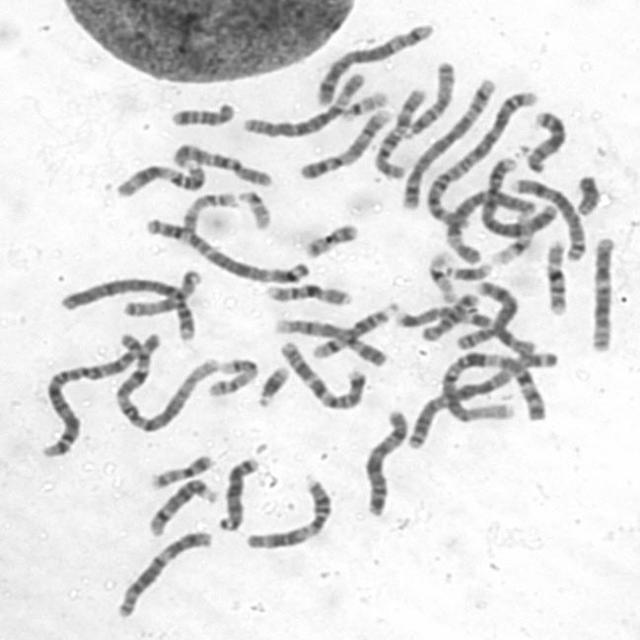A1: (107, 332, 220, 434), (436, 347, 550, 425)
A2: (420, 86, 541, 232), (40, 330, 162, 462)
A3: (405, 349, 560, 449), (141, 214, 311, 284)
B4: (56, 274, 198, 342), (477, 154, 555, 238)
B5: (398, 77, 499, 211), (310, 20, 436, 106)
C10: (371, 85, 427, 180), (169, 141, 275, 188)
C11: (242, 475, 334, 552), (113, 159, 206, 199)
C12: (115, 529, 213, 620), (588, 234, 617, 354)
C6: (237, 69, 367, 140), (445, 186, 538, 268)
C7: (396, 305, 538, 359), (276, 337, 367, 411)
C8: (509, 177, 588, 266), (454, 277, 520, 354)
C9: (295, 105, 393, 182), (271, 315, 387, 367)
D13: (214, 454, 260, 532), (523, 107, 567, 174)
D14: (309, 299, 400, 360), (146, 476, 217, 538)
D15: (118, 265, 203, 320), (401, 56, 456, 139)
E16: (262, 280, 353, 307), (542, 238, 569, 316)
E17: (202, 357, 260, 401), (180, 191, 238, 234)
E18: (416, 289, 479, 344), (166, 100, 236, 128)
F19: (488, 210, 539, 266), (426, 248, 459, 304)
F20: (148, 451, 215, 489), (301, 220, 361, 258)
G21: (253, 364, 291, 409), (444, 261, 493, 281)
G22: (337, 88, 391, 123), (235, 186, 273, 232)
X: (361, 408, 410, 518)
Y: (572, 172, 601, 215)
